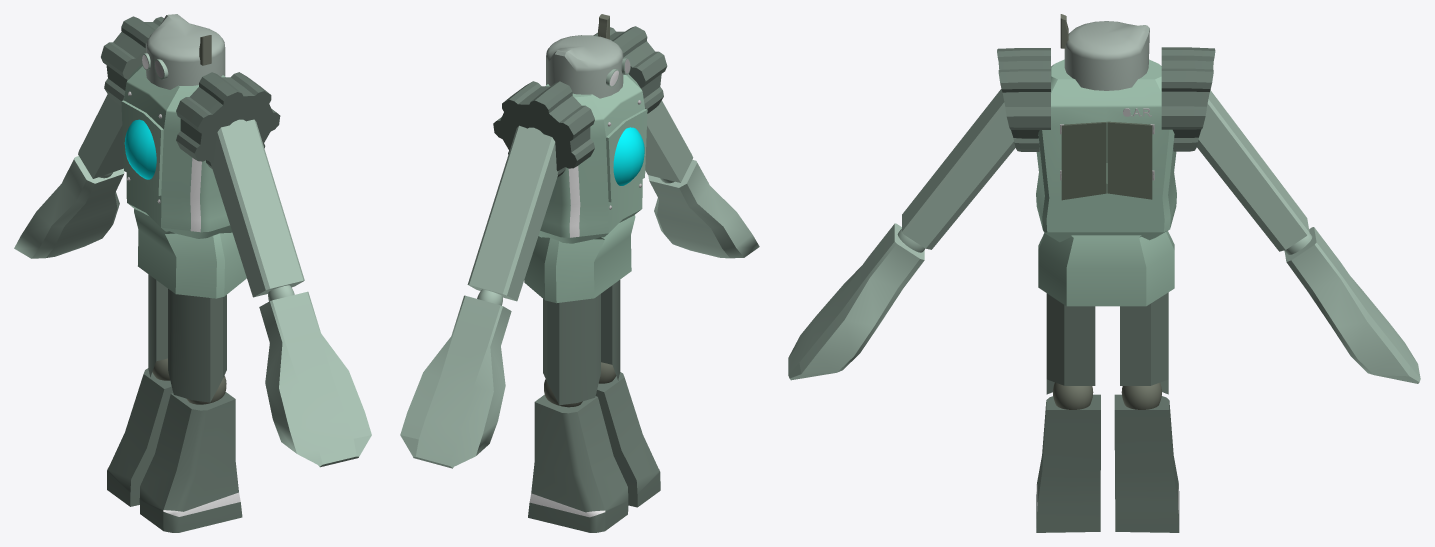
The model's file is GAR Full Body.fbx.
3 renders of one model, left to right at view 1: azimuth 30°, elevation 25°; view 2: azimuth 150°, elevation 25°; view 3: azimuth 270°, elevation 25°, orthographic. The views are drawn at different scales.
Visible parts, largest first — view 1: GAR_MAIN; view 2: GAR_MAIN; view 3: GAR_MAIN.
Boxes of the visible parts, <box> form: GAR_MAIN: <box>14,14,371,532</box>; GAR_MAIN: <box>400,14,759,532</box>; GAR_MAIN: <box>788,14,1420,532</box>.
Size of the model in its own units: 2.67 by 11.78 by 13.38.
